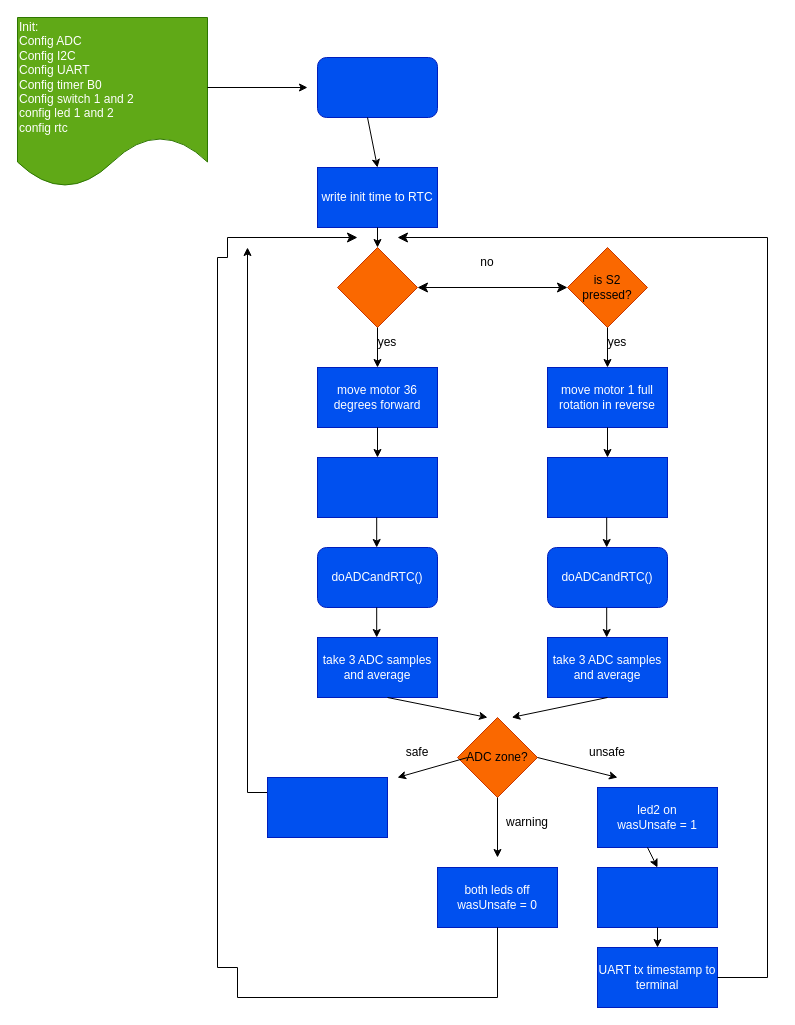
The diagram is 795 pixels wide and 1025 high, and some of its shapes have lost their labels. Here are the shapes that lost their labels. From the top down, the centre of each, then its label:
point 377,87: Main Loop
point 377,287: is S1 pressed?
point 377,487: UART Tx "motor advanced 1 step"
point 607,487: UART Tx "motor reversed 1 rotation"
point 327,807: led 1 on wasUnsafe =0
point 657,897: I2C rx from RTC
